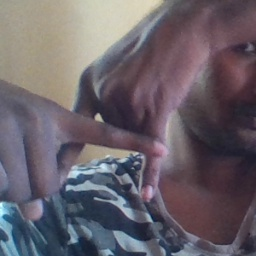H: (51, 78, 170, 205)
